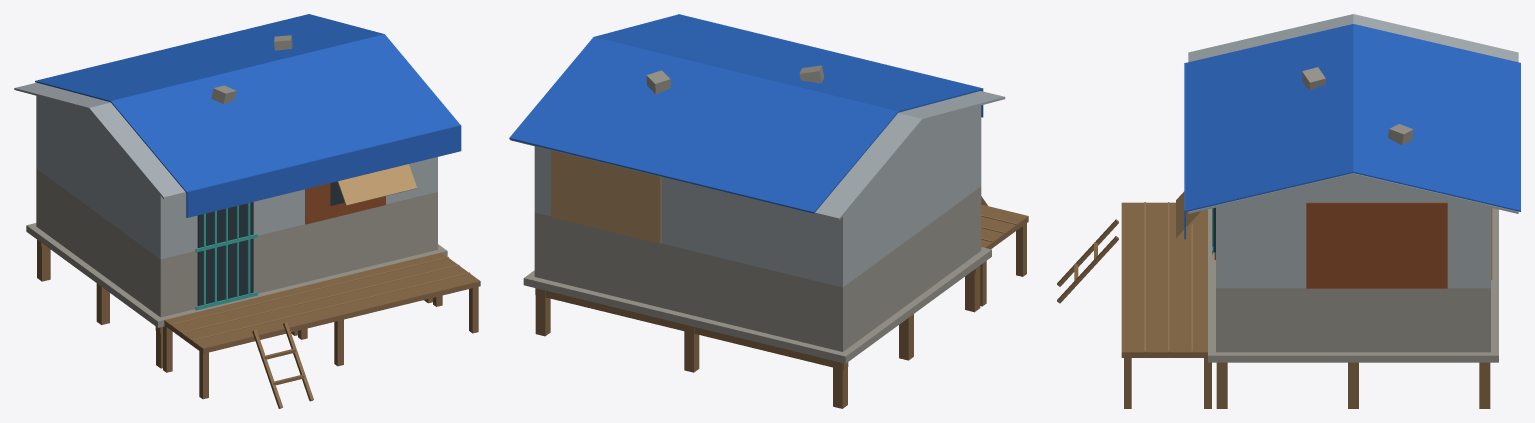
The model's file is BAY_I_TarpShack_T.glb.
The picture shows the model from 3 angles, left to right: view 1: azimuth 30°, elevation 25°; view 2: azimuth 150°, elevation 25°; view 3: azimuth 270°, elevation 25°; orthographic projection. The views are drawn at different scales.
Parts seen in each view (by area): view 1: BAY_I_TarpShack_T; view 2: BAY_I_TarpShack_T; view 3: BAY_I_TarpShack_T.
Boxes of the visible parts, bbox=[...] form: BAY_I_TarpShack_T: bbox=[14, 14, 480, 408]; BAY_I_TarpShack_T: bbox=[509, 14, 1028, 408]; BAY_I_TarpShack_T: bbox=[1057, 14, 1520, 408].
Bounding box in the file's own units: 4.8 × 3.46 × 5.9.
Materials: 1 (1 with a texture image).
